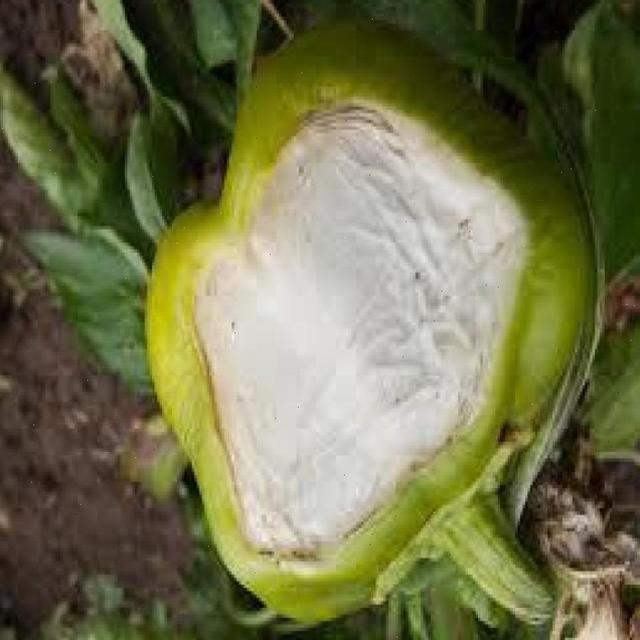Sunscald Fruit: (145, 102, 314, 391)
